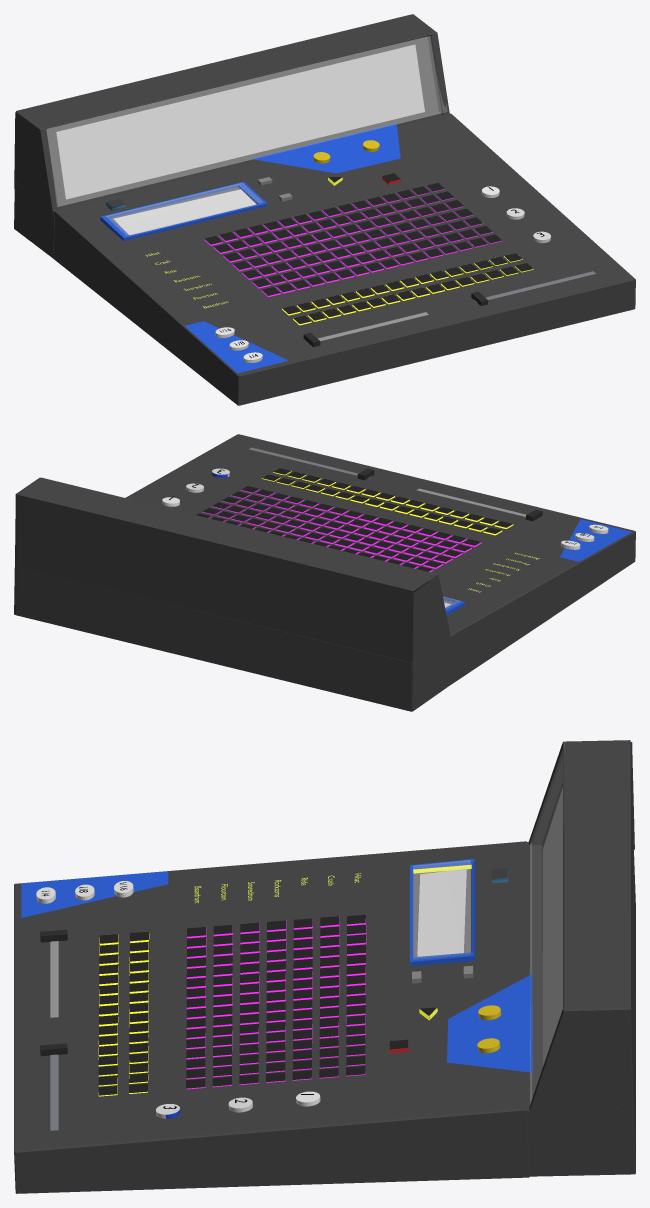
The model's file is drummachine3.99d3efc6.glb.
3 views of the same model, one above another, from view 1: azimuth 30°, elevation 25°; view 2: azimuth 150°, elevation 25°; view 3: azimuth 270°, elevation 25° (orthographic). The views are drawn at different scales.
Parts seen in each view (by area): view 1: Cube.003, Cube.001, wfDisplay, Plane, Cube.002, screenDisplay, screen.001, Plane.001; view 2: Cube.003, Plane.001; view 3: Cube.003, Cube.001, Plane, Cube.002, wfDisplay, screenDisplay, Plane.001, screen.001, volumeTrack, tempoTrack.
Boxes of the visible parts, box(x1,y1,x2,y2) form: Cube.003: box(14, 14, 635, 405); Cube.001: box(46, 36, 447, 206); wfDisplay: box(56, 44, 424, 199); Plane: box(251, 123, 400, 173); Cube.002: box(105, 183, 262, 235); screenDisplay: box(113, 189, 256, 234); screen.001: box(100, 181, 267, 240); Plane.001: box(185, 321, 288, 373); Cube.003: box(14, 434, 635, 711); Plane.001: box(560, 519, 631, 561); Cube.003: box(14, 740, 635, 1193); Cube.001: box(530, 751, 562, 1104); Plane: box(447, 974, 533, 1072); Cube.002: box(413, 860, 470, 959); wfDisplay: box(542, 787, 562, 1066); screenDisplay: box(417, 868, 466, 956); Plane.001: box(21, 871, 168, 917); screen.001: box(410, 859, 475, 966); volumeTrack: box(50, 941, 58, 1017); tempoTrack: box(50, 1054, 58, 1130).
Bounding box in the file's own units: 6.67 × 2.13 × 6.5.
26 materials, 1 textured.
